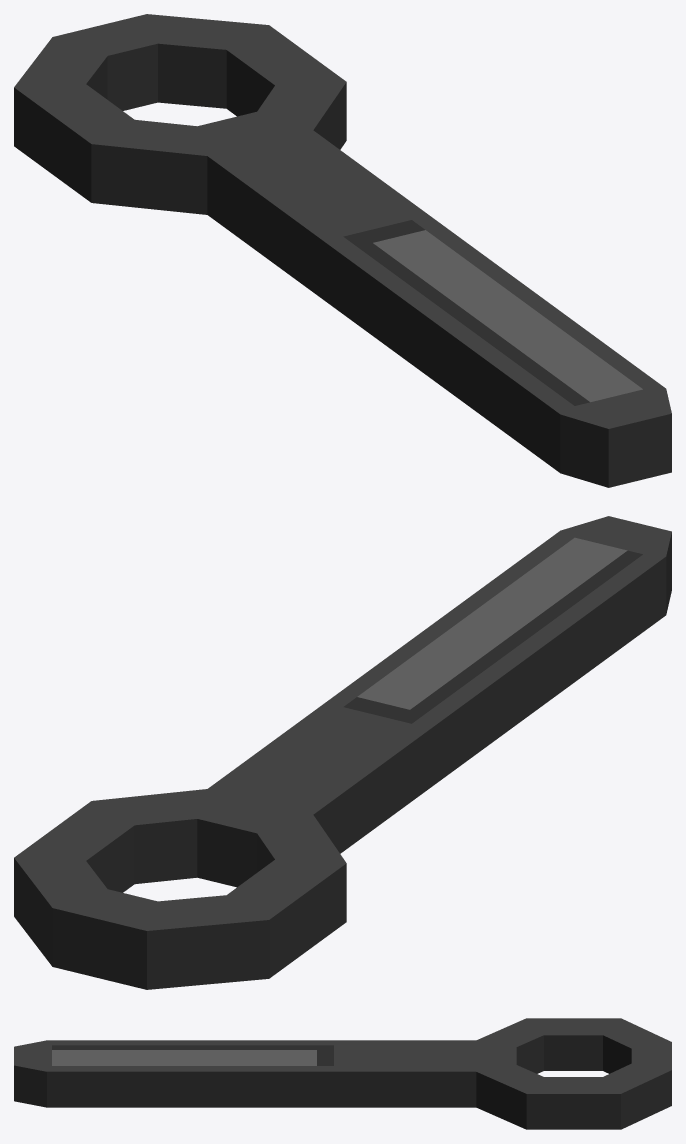
Rendered from CR_Tool_Spanner.fbx.
3 renders of one model, top to bottom at view 1: azimuth 30°, elevation 25°; view 2: azimuth 150°, elevation 25°; view 3: azimuth 270°, elevation 25°, orthographic. The views are drawn at different scales.
Visible parts, largest first — view 1: CR_Tool_Spanner; view 2: CR_Tool_Spanner; view 3: CR_Tool_Spanner.
Boxes of the visible parts, <box> form: CR_Tool_Spanner: <box>14,14,671,487</box>; CR_Tool_Spanner: <box>14,516,671,989</box>; CR_Tool_Spanner: <box>14,1018,671,1129</box>.
Size of the model in its own units: 0.1317 by 0.03 by 0.4832.
